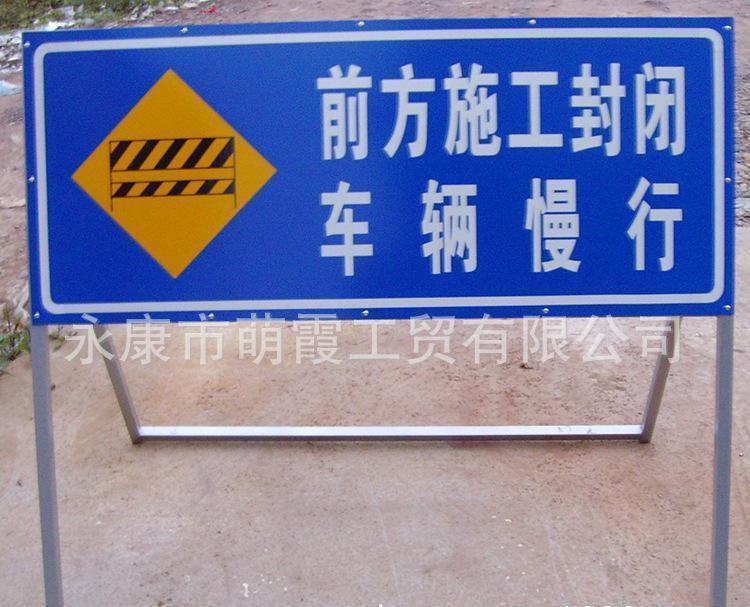sign: (25, 41, 732, 312)
